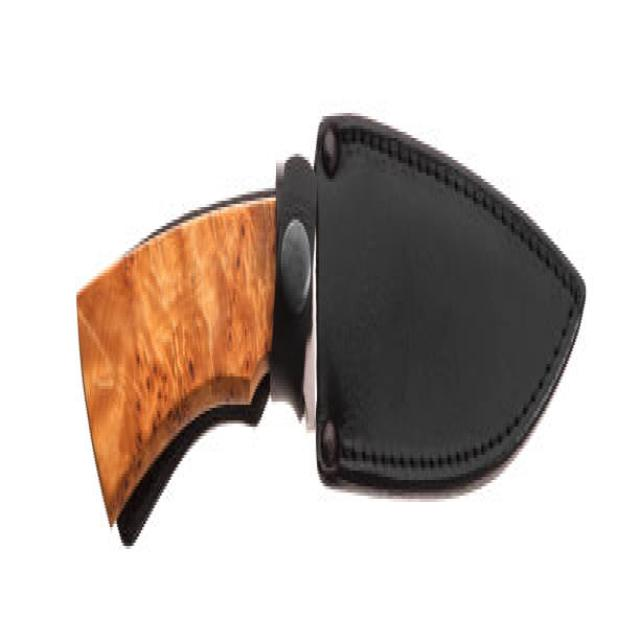knife: (74, 108, 594, 557)
